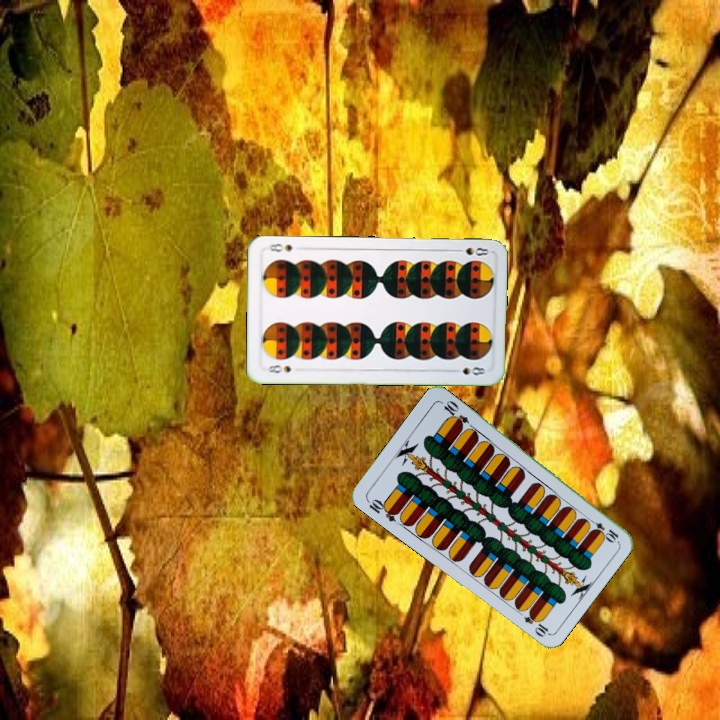E10: (363, 494, 401, 524), (584, 514, 621, 544)
S8: (451, 243, 491, 258), (264, 360, 294, 376)
